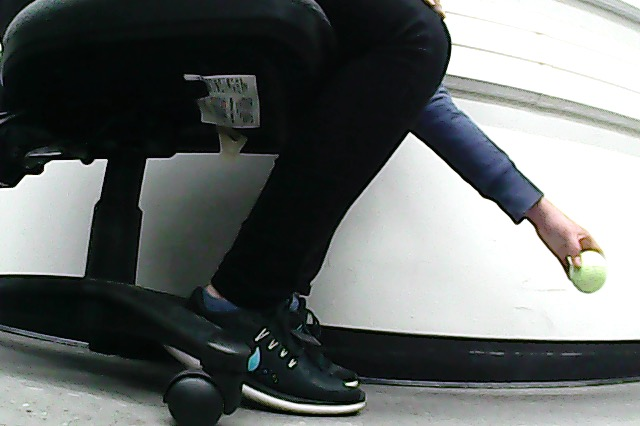ball: (570, 250, 607, 294)
